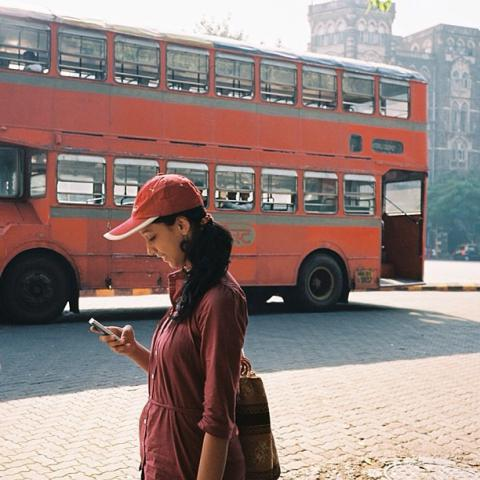bus: (3, 8, 426, 322)
car: (452, 243, 480, 262)
